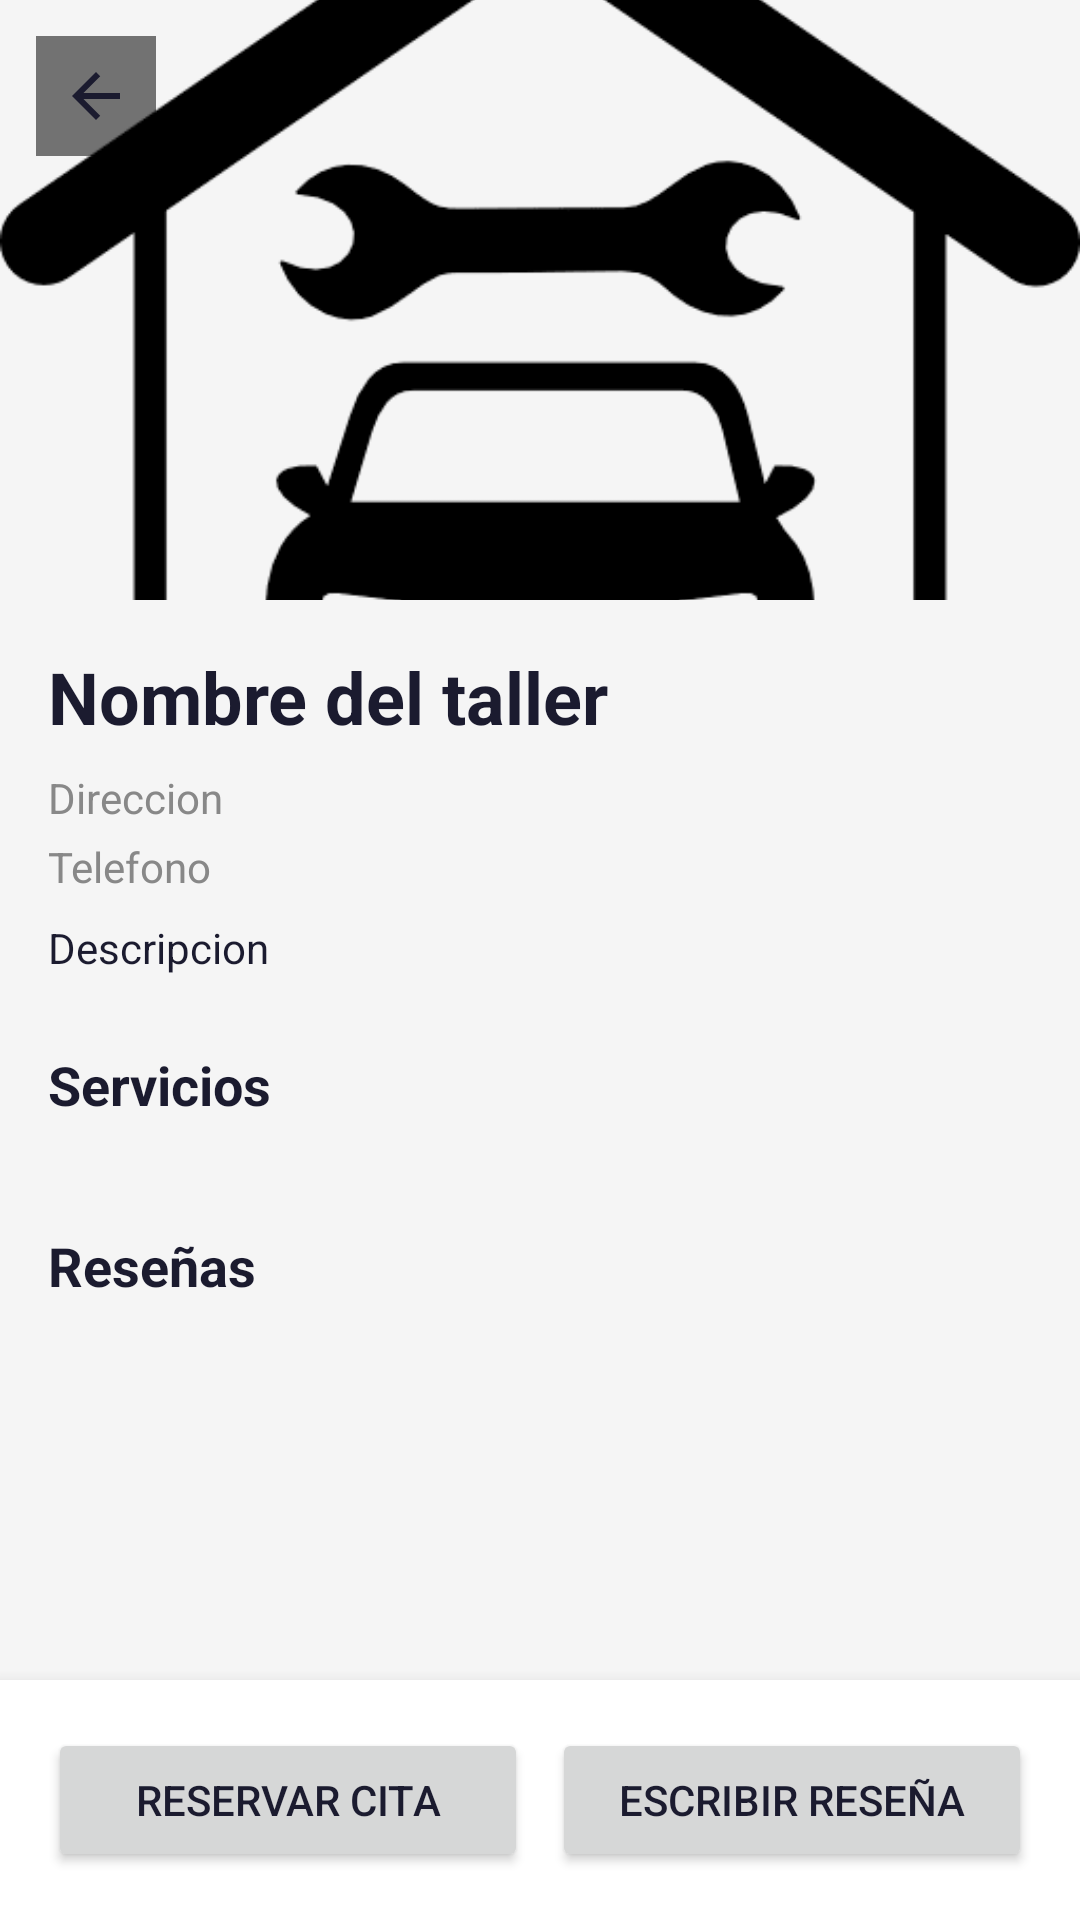

Icons on this 1080px×1920px Android screen, each with the point to tap as (x=x, y=y):
arrow back: (x=96, y=96)
